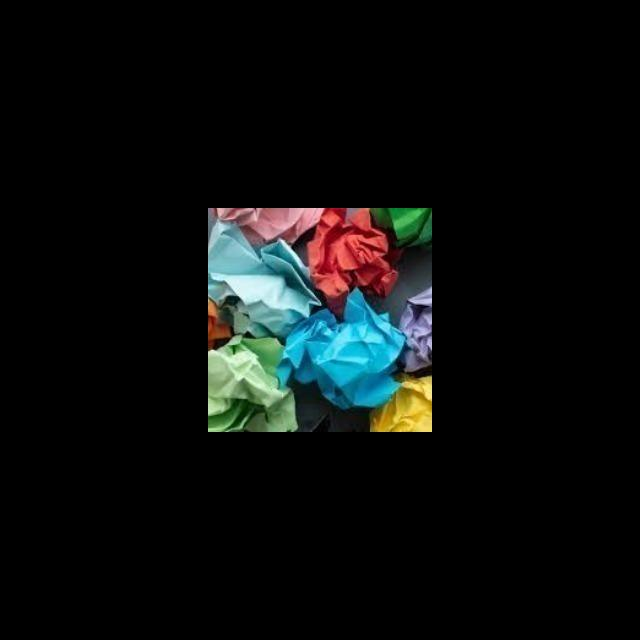paper: (277, 291, 409, 411), (208, 222, 324, 337), (208, 335, 303, 432), (304, 208, 395, 308), (369, 375, 432, 432), (397, 294, 432, 374)
